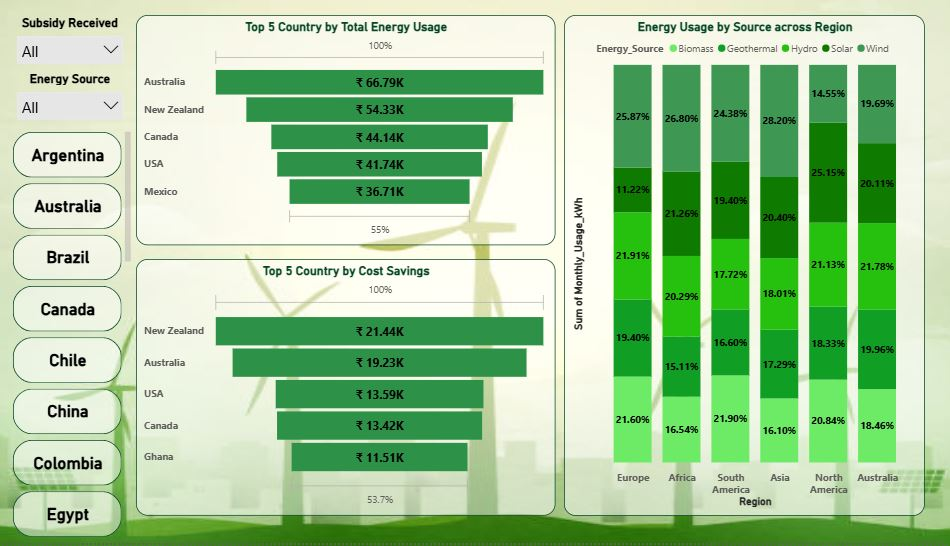

This screenshot's page, from the dashboard's own definition file:
{"tool":"powerbi","page":{"name":"REGIONAL ANALYSIS","canvas":[1305,750],"ordinal":4},"visuals":[{"type":"slicer","title":"Subsidy Received","fields":{"Values":["Renewable_Energy_Usage_Sampled.Subsidy_Received"]},"box":[22.5,30,163.5,66],"z":5000},{"type":"slicer","title":"Energy Source","fields":{"Values":["Renewable_Energy_Usage_Sampled.Energy_Source"]},"box":[22.5,106.5,163.5,66],"z":6000},{"type":"funnel","title":"Top 5 Country by Total Energy Usage ","fields":{"Category":["Renewable_Energy_Usage_Sampled.Country"],"Y":["Sum(Renewable_Energy_Usage_Sampled.Monthly_Usage_kWh)"]},"box":[195,30,571.5,313.5],"z":7000},{"type":"advancedSlicerVisual","fields":{"Values":["Renewable_Energy_Usage_Sampled.Country"]},"box":[22.4,183.6,171.6,565.7],"z":8000},{"type":"hundredPercentStackedColumnChart","title":"Energy Usage by Source across Region","fields":{"Category":["Renewable_Energy_Usage_Sampled.Region"],"Y":["Sum(Renewable_Energy_Usage_Sampled.Monthly_Usage_kWh)"],"Series":["Renewable_Energy_Usage_Sampled.Energy_Source"]},"box":[778.5,30,492,682.5],"z":9000},{"type":"funnel","title":"Top 5 Country by Cost Savings","fields":{"Category":["Renewable_Energy_Usage_Sampled.Country"],"Y":["Sum(Renewable_Energy_Usage_Sampled.Cost_Savings_USD)"]},"box":[195,363,571.5,349.5],"z":10000}]}

Visuals, with their boxes in screenshot pixels (x1, y1, x2, y2), scaled from the page's 1305x750 canvas onto the 950x546 screenshot:
"Subsidy Received" slicer: {"left": 16, "top": 22, "right": 135, "bottom": 70}
"Energy Source" slicer: {"left": 16, "top": 78, "right": 135, "bottom": 126}
"Top 5 Country by Total Energy Usage " funnel: {"left": 142, "top": 22, "right": 558, "bottom": 250}
advancedSlicerVisual - Renewable_Energy_Usage_Sampled.Country: {"left": 16, "top": 134, "right": 141, "bottom": 545}
"Energy Usage by Source across Region" hundredPercentStackedColumnChart: {"left": 567, "top": 22, "right": 925, "bottom": 519}
"Top 5 Country by Cost Savings" funnel: {"left": 142, "top": 264, "right": 558, "bottom": 519}
